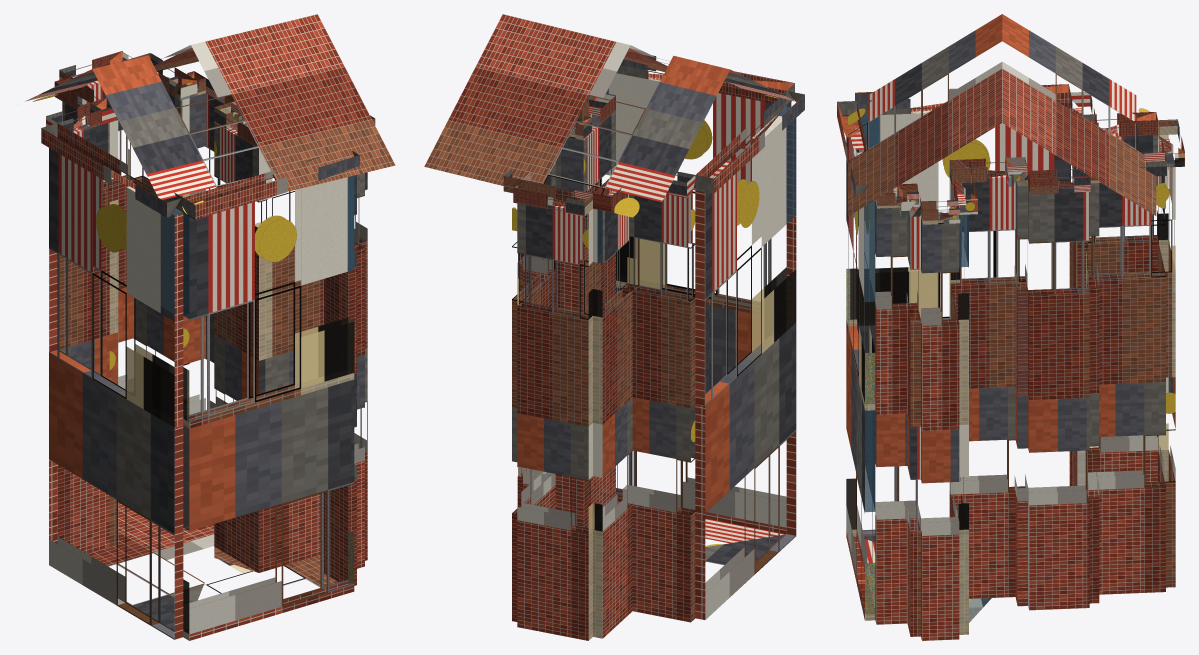
3 renders of one model, left to right at view 1: azimuth 30°, elevation 25°; view 2: azimuth 150°, elevation 25°; view 3: azimuth 270°, elevation 25°, orthographic.
Visible parts, largest first — view 1: 392628870__wall_13_xb, 392628870__wall_0_xb, 392628870_roof_-1_xb, 392628870__wall_9_xb, 392628870__wall_1_xb, 392628870__wall_8_xb, 392628870__base, 392628870__wall_13_xf, 392628870__wall_12_xb, 392628870__wall_0_xf, 392628870__cornice_0, 392628870__cornice_13 (+13 smaller); view 2: 392628870__wall_0_xb, 392628870_roof_1_xb, 392628870__wall_3_xb, 392628870__wall_1_xb, 392628870__wall_13_xb, 392628870__wall_2_xb, 392628870__wall_8_xb, 392628870__wall_7_xb, 392628870__wall_0_xf, 392628870__wall_4_xb, 392628870__cornice_0, 392628870__base (+9 smaller); view 3: 392628870__wall_4_xb, 392628870__wall_6_xb, 392628870__wall_8_xb, 392628870__wall_10_xb, 392628870_roof_-1_xb, 392628870_roof_1_xb, 392628870__wall_12_xb, 392628870__wall_13_xb, 392628870__wall_0_xb, 392628870__wall_2_xb, 392628870__wall_11_xb, 392628870__wall_3_xb (+19 smaller).
Boxes of the visible parts, box(x1,y1,x2,y2) form: 392628870__wall_13_xb: box(183, 175, 354, 640); 392628870__wall_0_xb: box(49, 148, 183, 639); 392628870_roof_-1_xb: box(92, 14, 395, 214); 392628870__wall_9_xb: box(255, 149, 323, 572); 392628870__wall_1_xb: box(57, 122, 117, 553); 392628870__wall_8_xb: box(214, 125, 267, 572); 392628870__base: box(87, 502, 338, 630); 392628870__wall_13_xf: box(183, 176, 353, 633); 392628870__wall_12_xb: box(324, 175, 356, 585); 392628870__wall_0_xf: box(127, 209, 181, 426); 392628870__cornice_0: box(41, 123, 183, 217); 392628870__cornice_13: box(183, 151, 359, 219); 392628870__wall_0_xb: box(695, 106, 796, 619); 392628870_roof_1_xb: box(424, 14, 729, 217); 392628870__wall_3_xb: box(517, 200, 592, 640); 392628870__wall_1_xb: box(622, 189, 695, 622); 392628870__wall_13_xb: box(606, 73, 791, 533); 392628870__wall_2_xb: box(593, 190, 636, 638); 392628870__wall_8_xb: box(574, 111, 615, 527); 392628870__wall_7_xb: box(554, 137, 587, 526); 392628870__wall_0_xf: box(752, 106, 795, 352); 392628870__wall_4_xb: box(512, 171, 554, 621); 392628870__cornice_0: box(695, 91, 804, 193); 392628870__base: box(618, 501, 785, 565); 392628870__wall_4_xb: box(1086, 183, 1165, 594); 392628870__wall_6_xb: box(1028, 186, 1089, 610); 392628870__wall_8_xb: box(949, 174, 1025, 598); 392628870__wall_10_xb: box(921, 215, 959, 640); 392628870_roof_-1_xb: box(848, 14, 1002, 216); 392628870_roof_1_xb: box(1002, 14, 1156, 215); 392628870__wall_12_xb: box(875, 199, 917, 624); 392628870__wall_13_xb: box(846, 120, 875, 620); 392628870__wall_0_xb: box(856, 107, 1070, 535); 392628870__wall_2_xb: box(1076, 133, 1157, 485); 392628870__wall_11_xb: box(906, 199, 920, 636); 392628870__wall_3_xb: box(1158, 134, 1175, 587).
Size of the model in its own units: 0.4492 by 0.8558 by 0.5253.
1 material, 1 textured.
